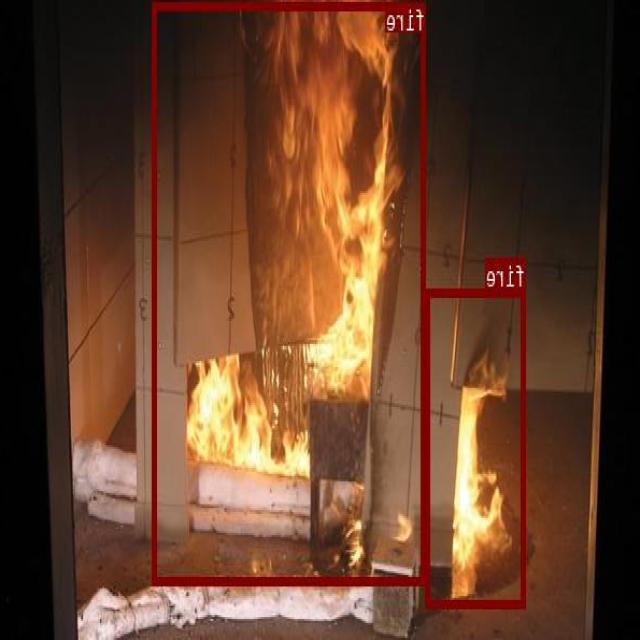fire: (154, 0, 426, 584), (427, 286, 527, 606)
